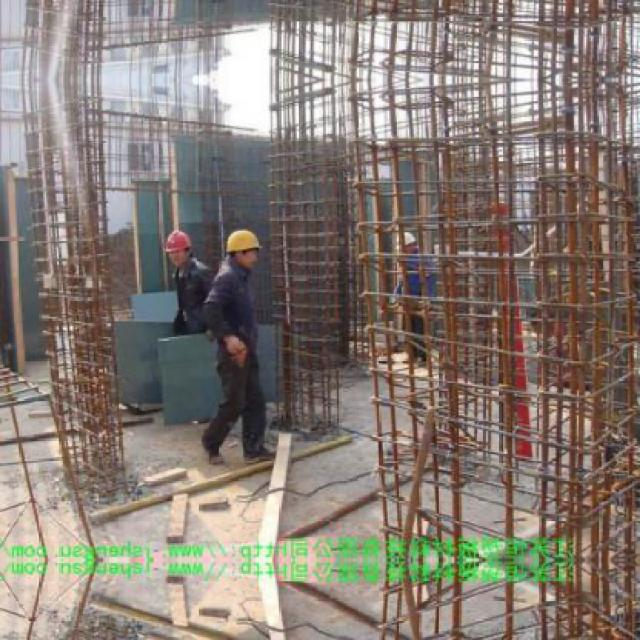con casco: (169, 208, 220, 259), (242, 218, 280, 277)
